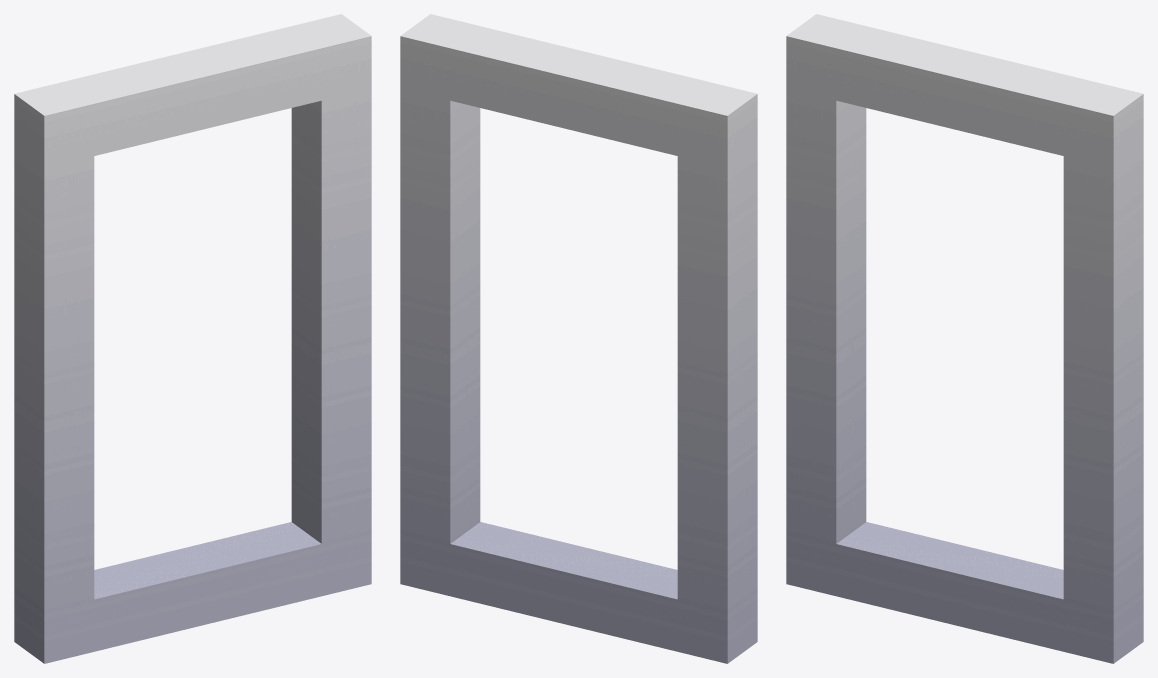
3 renders of one model, left to right at view 1: azimuth 30°, elevation 25°; view 2: azimuth 150°, elevation 25°; view 3: azimuth 330°, elevation 25°, orthographic.
Visible parts, largest first — view 1: window-white-tall; view 2: window-white-tall; view 3: window-white-tall.
Part boxes in pixels (left/top/right/bottom): window-white-tall: left=14, top=14, right=371, bottom=663; window-white-tall: left=400, top=14, right=757, bottom=663; window-white-tall: left=786, top=14, right=1143, bottom=663.
Bounding box in the file's own units: 0.3125 × 0.5 × 0.05.
1 material, 1 textured.
